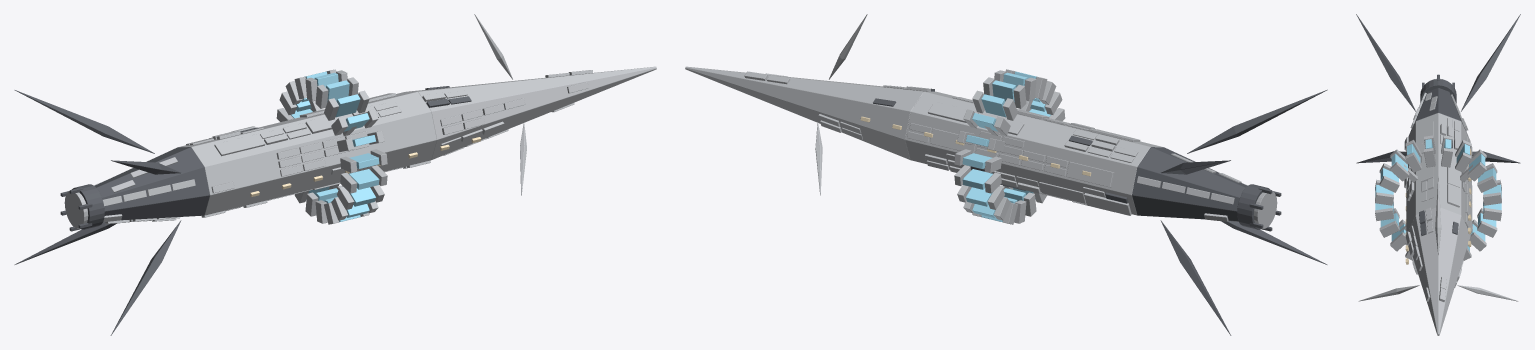
Rendered from SM_SeverantChoirSkiff.fbx.
The picture shows the model from 3 angles, left to right: view 1: azimuth 30°, elevation 25°; view 2: azimuth 150°, elevation 25°; view 3: azimuth 270°, elevation 25°; orthographic projection. The views are drawn at different scales.
Visible parts, largest first — view 1: SM_SeverantChoirSkiff; view 2: SM_SeverantChoirSkiff; view 3: SM_SeverantChoirSkiff.
Part boxes in pixels (box(x1,y1,x2,y2)): SM_SeverantChoirSkiff: box(14, 14, 656, 335); SM_SeverantChoirSkiff: box(685, 14, 1327, 335); SM_SeverantChoirSkiff: box(1356, 14, 1520, 335).
Bounding box in the file's own units: 117 × 35.1 × 33.13.
